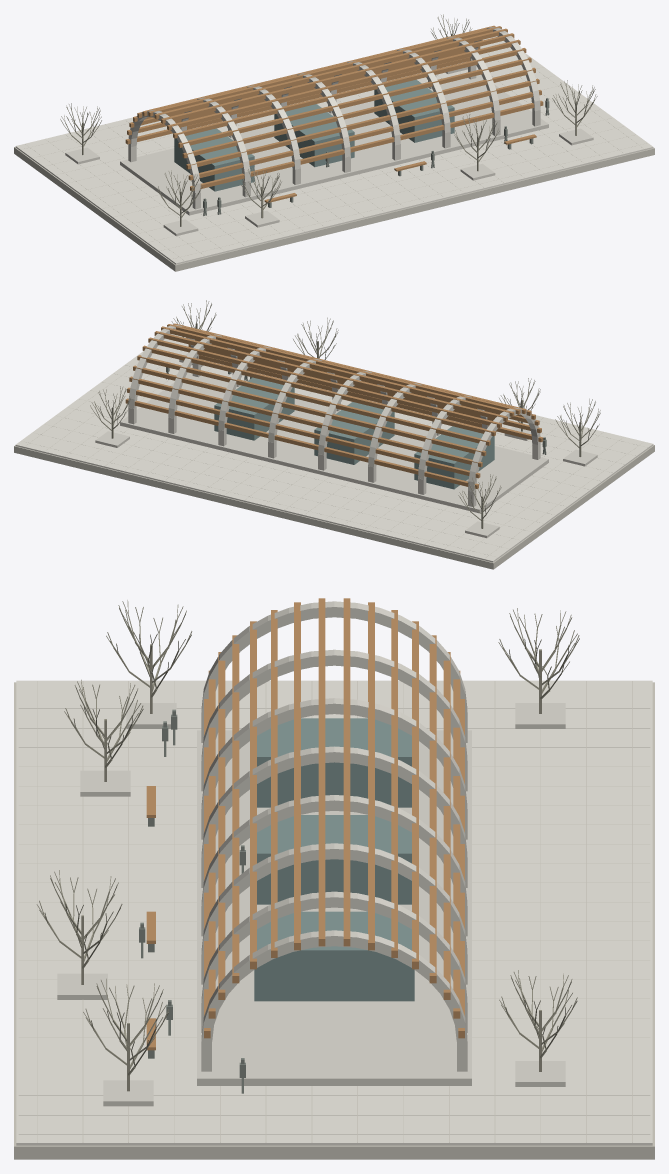
The model's file is arcade.glb.
The picture shows the model from 3 angles, top to bottom: view 1: azimuth 30°, elevation 25°; view 2: azimuth 150°, elevation 25°; view 3: azimuth 270°, elevation 25°; orthographic projection. The views are drawn at different scales.
Parts seen in each view (by area): view 1: Site / Ground - Plaster, Enclosure / Roof battens - Cedar, Structure / Floor - Concrete, Site / Ground - Paving, Structure / Precast ribs - Concrete, Interior / Rooms - Glass, Site / Planting - Branch, Site / Ground - Concrete, Structure / Piers - Concrete, Site / Furniture - Cedar; view 2: Site / Ground - Plaster, Enclosure / Roof battens - Cedar, Structure / Floor - Concrete, Site / Ground - Paving, Structure / Precast ribs - Concrete, Interior / Rooms - Glass, Site / Planting - Branch, Structure / Piers - Concrete, Site / Ground - Concrete; view 3: Site / Ground - Plaster, Enclosure / Roof battens - Cedar, Structure / Floor - Concrete, Structure / Precast ribs - Concrete, Interior / Rooms - Glass, Site / Ground - Paving, Site / Planting - Branch, Site / Ground - Concrete, Structure / Piers - Concrete, Site / Figures - Steel, Site / Furniture - Cedar.
Boxes of the visible parts, x1,y1,x2,y2 form: Site / Ground - Plaster: [15, 36, 653, 264]; Enclosure / Roof battens - Cedar: [125, 25, 543, 190]; Structure / Floor - Concrete: [120, 74, 548, 215]; Site / Ground - Paving: [14, 37, 654, 271]; Structure / Precast ribs - Concrete: [128, 27, 540, 193]; Interior / Rooms - Glass: [174, 79, 454, 191]; Site / Planting - Branch: [60, 14, 597, 226]; Site / Ground - Concrete: [65, 62, 593, 236]; Structure / Piers - Concrete: [128, 65, 540, 209]; Site / Furniture - Cedar: [264, 134, 536, 202]; Site / Ground - Plaster: [15, 334, 653, 562]; Enclosure / Roof battens - Cedar: [125, 323, 543, 489]; Structure / Floor - Concrete: [120, 372, 548, 513]; Site / Ground - Paving: [14, 340, 654, 569]; Structure / Precast ribs - Concrete: [128, 325, 540, 491]; Interior / Rooms - Glass: [214, 377, 494, 489]; Site / Planting - Branch: [90, 300, 600, 528]; Structure / Piers - Concrete: [128, 363, 540, 506]; Site / Ground - Concrete: [95, 352, 597, 538]; Site / Ground - Plaster: [16, 680, 652, 1145]; Enclosure / Roof battens - Cedar: [204, 598, 464, 1038]; Structure / Floor - Concrete: [197, 730, 471, 1085]; Structure / Precast ribs - Concrete: [201, 601, 467, 1041]; Interior / Rooms - Glass: [254, 718, 414, 1001]; Site / Ground - Paving: [14, 681, 654, 1159]; Site / Planting - Branch: [36, 600, 579, 1091]; Site / Ground - Concrete: [57, 703, 565, 1106]; Structure / Piers - Concrete: [201, 707, 467, 1071]; Site / Figures - Steel: [139, 709, 245, 1093]; Site / Furniture - Cedar: [146, 786, 155, 1050].
Bounding box in the file's own units: 48 × 7.65 × 28.
